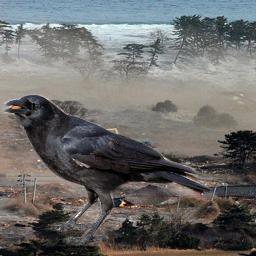Crow: (3, 93, 212, 246)
